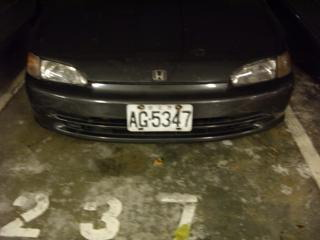plate: (124, 101, 196, 134)
